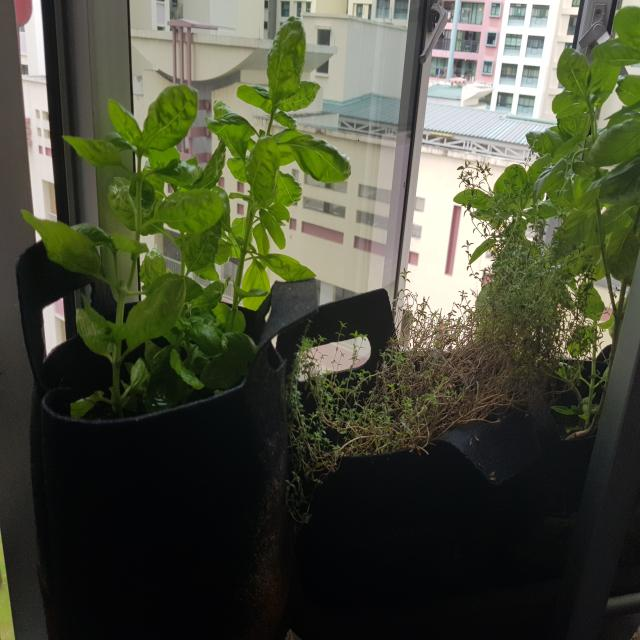Sweet Basil: (40, 75, 222, 382), (192, 18, 353, 302), (496, 18, 640, 239)
Thyme: (307, 281, 538, 471)
